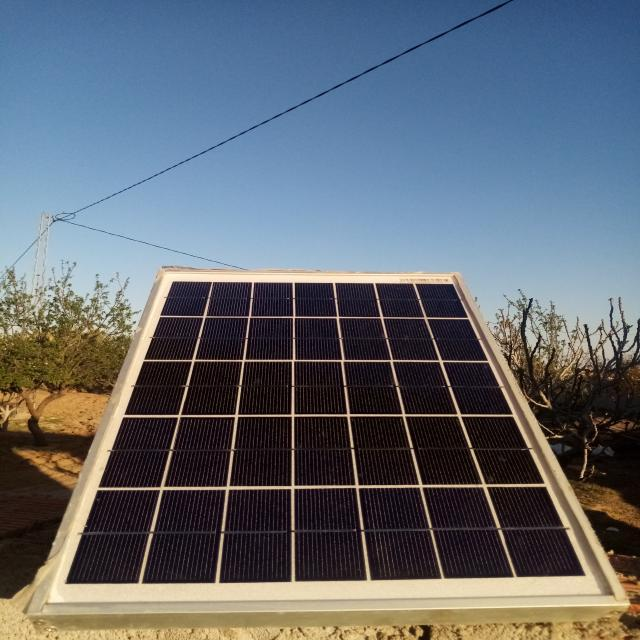no faulty: (28, 269, 630, 615)
